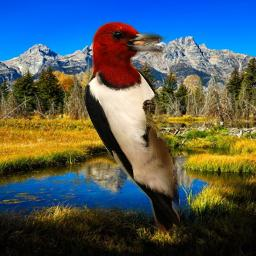Woodpecker: (83, 21, 180, 233)
